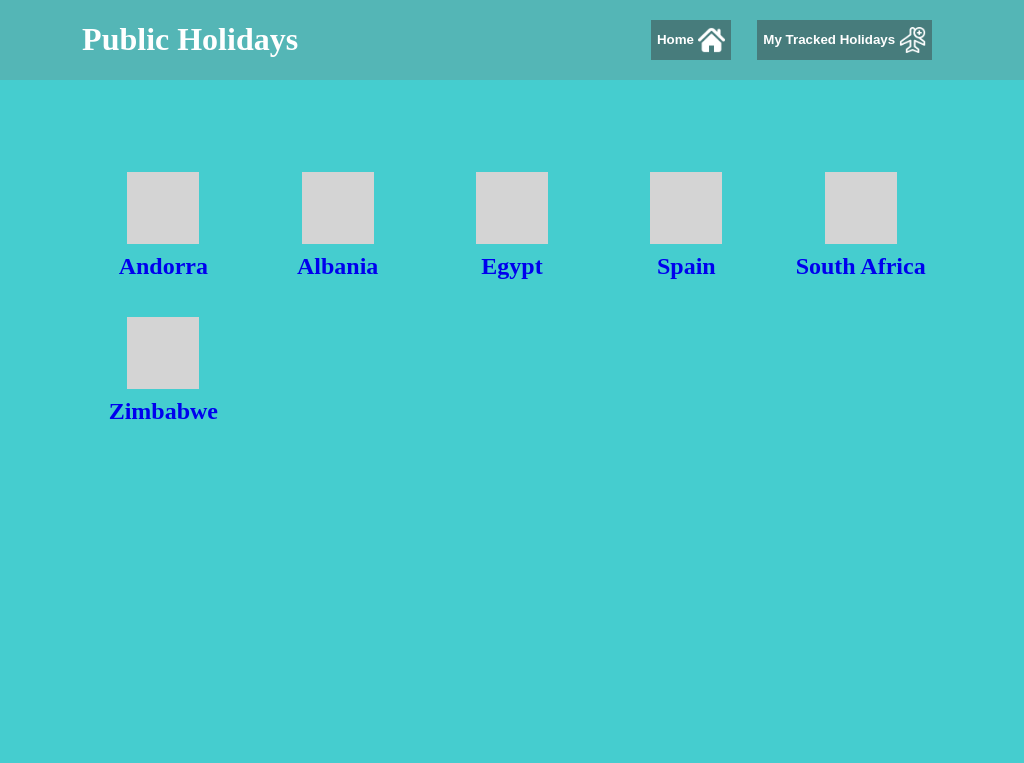
Test: selected country page user flow › should get Andorra and show the header
Click the element with class "country-card" showing "Andorra".
click(164, 226)  # box 119,172 -> 208,279
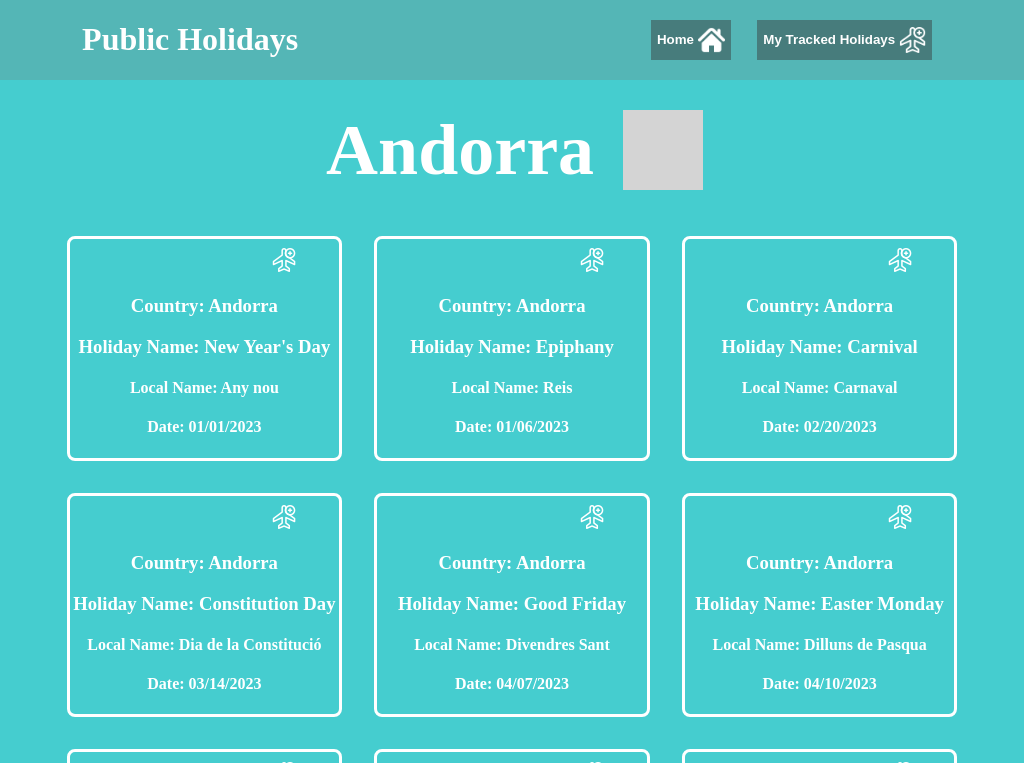
Expected: the 1st heading "Country: Andorra" is shown, 131,295 -> 278,316
Expected: the heading "Holiday Name: New Year's Day" is shown, 70,336 -> 339,358
Expected: the heading "Local Name: Any nou" is shown, 130,379 -> 279,396
